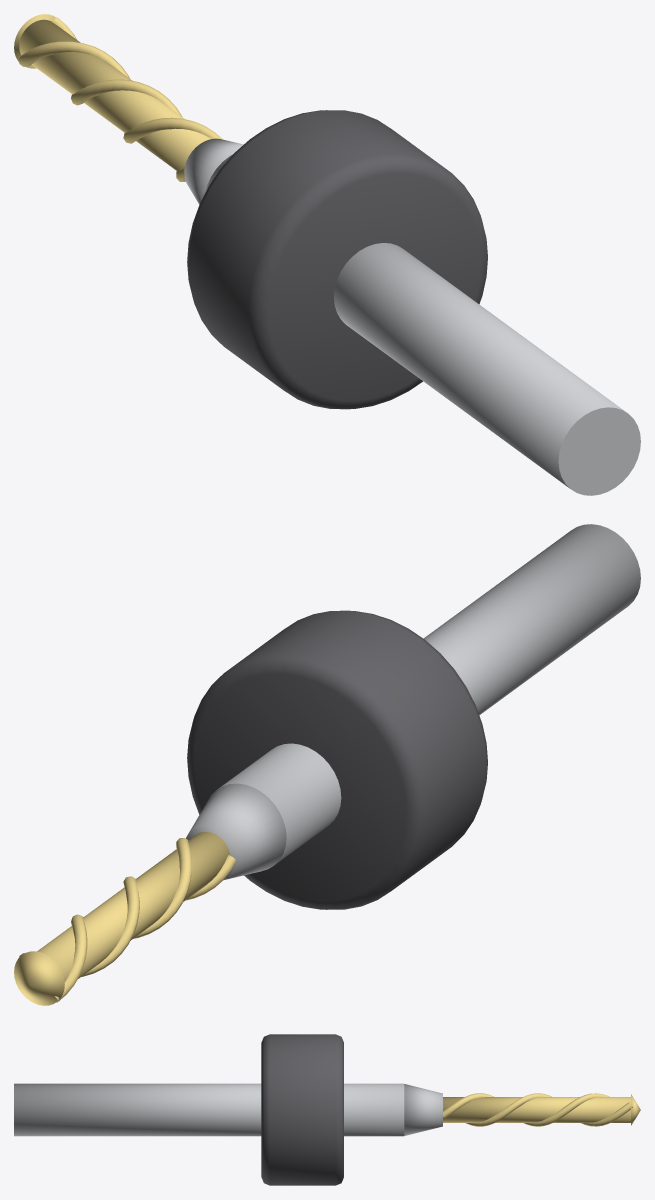
File: drill18_2.glb
The picture shows the model from 3 angles, top to bottom: view 1: azimuth 30°, elevation 25°; view 2: azimuth 150°, elevation 25°; view 3: azimuth 270°, elevation 25°; orthographic projection. The views are drawn at different scales.
Visible parts, largest first — view 1: Cylinder.002, Cylinder.001, Cylinder, flute, Cone, flute.001; view 2: Cylinder.002, Cylinder.001, Cylinder, Cone, flute, Cone.001, flute.001; view 3: Cylinder.001, Cylinder.002, Cylinder, Cone, flute, flute.001.
Part boxes in pixels (x1,y1,x2,y2): Cylinder.002: (187,110,487,409); Cylinder.001: (205,154,640,495); Cylinder: (19,19,211,173); flute: (19,41,222,143); Cone: (184,138,243,204); flute.001: (52,17,185,181); Cylinder.002: (187,610,487,909); Cylinder.001: (218,524,640,864); Cylinder: (37,831,230,982); Cone: (186,783,286,880); flute: (55,838,191,1002); Cone.001: (14,951,64,1005); flute.001: (18,855,236,976); Cylinder.001: (14,1083,404,1136); Cylinder.002: (261,1034,343,1185); Cylinder: (443,1097,630,1122); Cone: (404,1084,442,1135); flute: (443,1093,609,1126); flute.001: (465,1093,632,1126).
Bounding box in the file's own units: 0.00917 × 0.00917 × 0.038.
